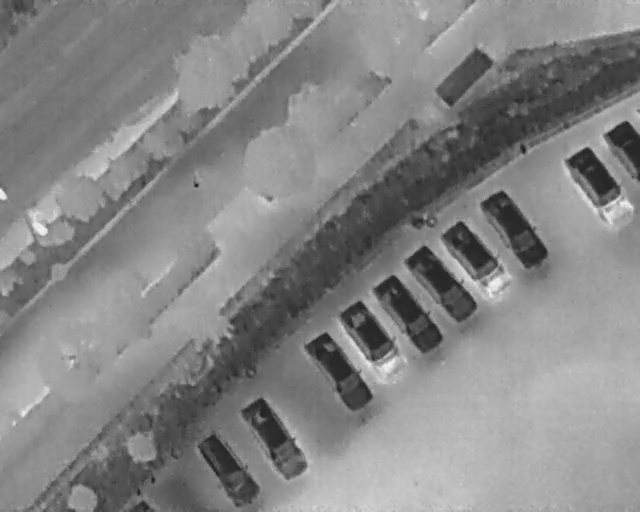Car: (396, 237, 484, 332), (432, 212, 520, 307), (364, 266, 450, 362), (235, 390, 318, 488), (473, 180, 556, 275), (296, 326, 380, 419), (557, 140, 639, 233), (331, 293, 413, 385), (189, 426, 267, 511), (601, 118, 639, 182)
